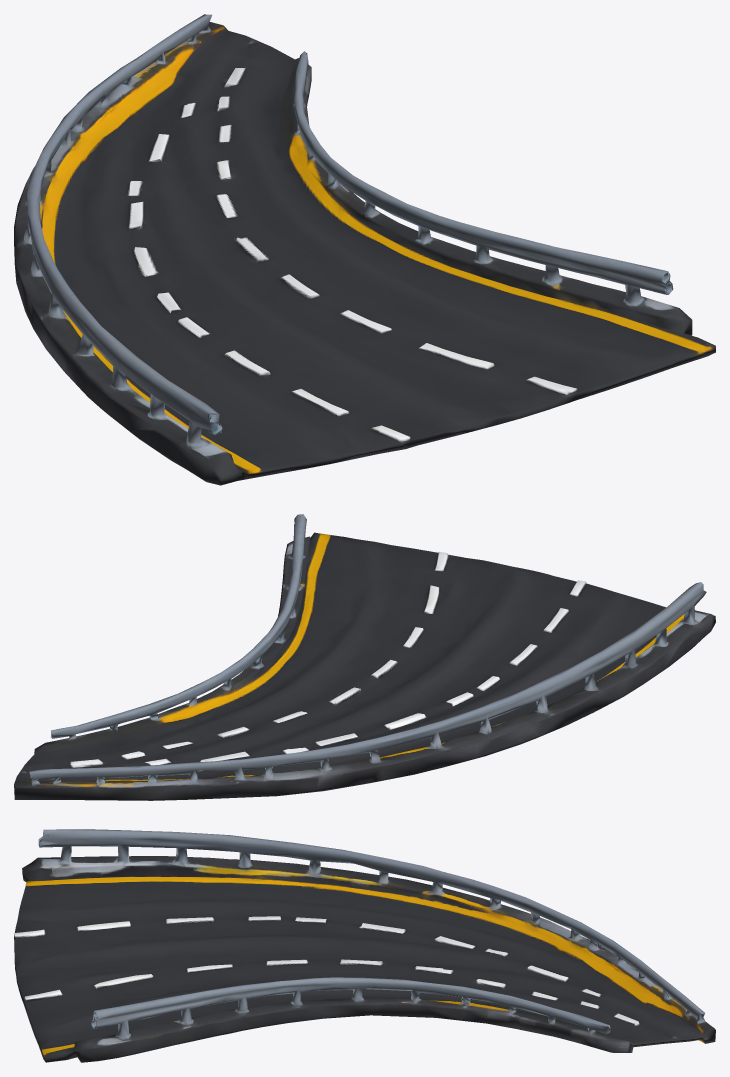
File: 3lanecurveright.glb
3 renders of one model, top to bottom at view 1: azimuth 30°, elevation 25°; view 2: azimuth 150°, elevation 25°; view 3: azimuth 270°, elevation 25°, orthographic. The views are drawn at different scales.
Parts seen in each view (by area): view 1: tripo_node_c546b88d-281a-4d6b-8368-4ebb718ff5bf; view 2: tripo_node_c546b88d-281a-4d6b-8368-4ebb718ff5bf; view 3: tripo_node_c546b88d-281a-4d6b-8368-4ebb718ff5bf.
Boxes of the visible parts, x1,y1,x2,y2 form: tripo_node_c546b88d-281a-4d6b-8368-4ebb718ff5bf: [14, 14, 715, 485]; tripo_node_c546b88d-281a-4d6b-8368-4ebb718ff5bf: [14, 514, 715, 800]; tripo_node_c546b88d-281a-4d6b-8368-4ebb718ff5bf: [14, 829, 715, 1062].
Bounding box in the file's own units: 0.6429 × 0.0774 × 1.
1 material, 1 textured.
